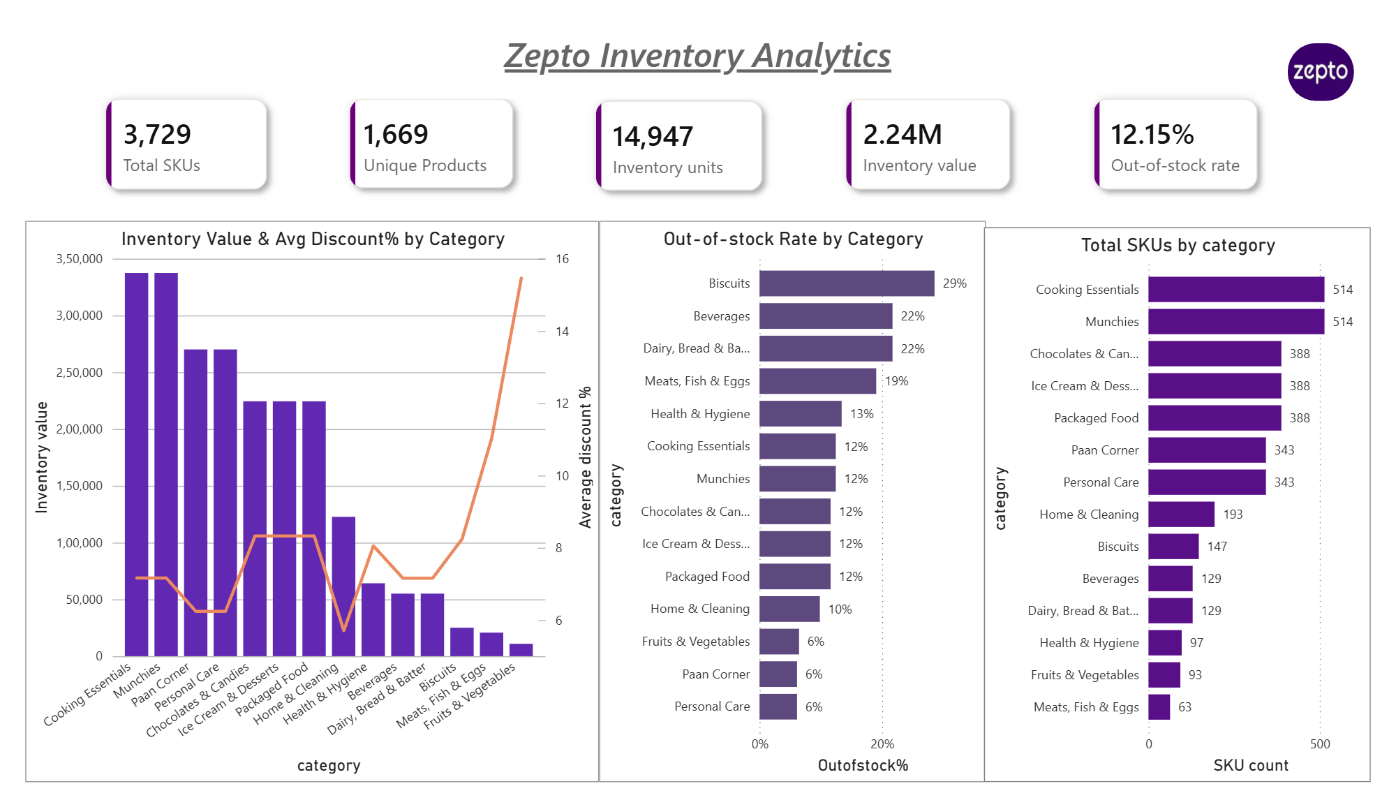

This screenshot's page, from the dashboard's own definition file:
{"tool":"powerbi","page":{"name":"Inventory","canvas":[1280,720],"ordinal":0},"visuals":[{"type":"cardVisual","fields":{"Data":["Count(public zepto.product_name)"]},"box":[297.3,58,179.1,109.2],"z":0},{"type":"barChart","title":"Out-of-stock Rate by Category","fields":{"Y":["zepto.Outofstock%"],"Category":["zepto.category"]},"box":[546,186,368,534],"z":2000},{"type":"barChart","title":"Total SKUs by category","fields":{"Category":["zepto.category"],"Y":["CountNonNull(zepto.sku_id)"]},"box":[912,192,368,528],"z":3000},{"type":"lineStackedColumnComboChart","title":"Inventory Value & Avg Discount% by Category","fields":{"Y":["zepto.Inventory value"],"Category":["zepto.category"],"Y2":["zepto.Average discount"]},"box":[0,186,546,534],"z":4000},{"type":"image","box":[1201.1,17.1,63.1,54.6],"z":5000},{"type":"cardVisual","fields":{"Data":["CountNonNull(zepto.sku_id)"]},"box":[64.8,58,177.4,110.9],"z":6000},{"type":"cardVisual","fields":{"Data":["zepto.Inventory value"]},"box":[769,58,180.8,110.9],"z":7000},{"type":"cardVisual","fields":{"Data":["Sum(zepto.availablequantity)"]},"box":[531.4,59.7,182.6,109.2],"z":8000},{"type":"cardVisual","fields":{"Data":["zepto.Outofstock%"]},"box":[1004.9,58,179.1,110.9],"z":9000},{"type":"textbox","box":[262.7,0,754.1,70],"z":10000}]}

Visuals, with their boxes on the page's 1280x720 design canvas (x1, y1, x2, y2). These are canvas units, not pixel positions in the 1386x807 screenshot, which may show the page scaled, cropped or inside an application window:
cardVisual - Count(public zepto.product_name): <region>297, 58, 476, 167</region>
"Out-of-stock Rate by Category" barChart: <region>546, 186, 914, 720</region>
"Total SKUs by category" barChart: <region>912, 192, 1280, 720</region>
"Inventory Value & Avg Discount% by Category" lineStackedColumnComboChart: <region>0, 186, 546, 720</region>
image: <region>1201, 17, 1264, 72</region>
cardVisual - CountNonNull(zepto.sku_id): <region>65, 58, 242, 169</region>
cardVisual - zepto.Inventory value: <region>769, 58, 950, 169</region>
cardVisual - Sum(zepto.availablequantity): <region>531, 60, 714, 169</region>
cardVisual - zepto.Outofstock%: <region>1005, 58, 1184, 169</region>
textbox: <region>263, 0, 1017, 70</region>
